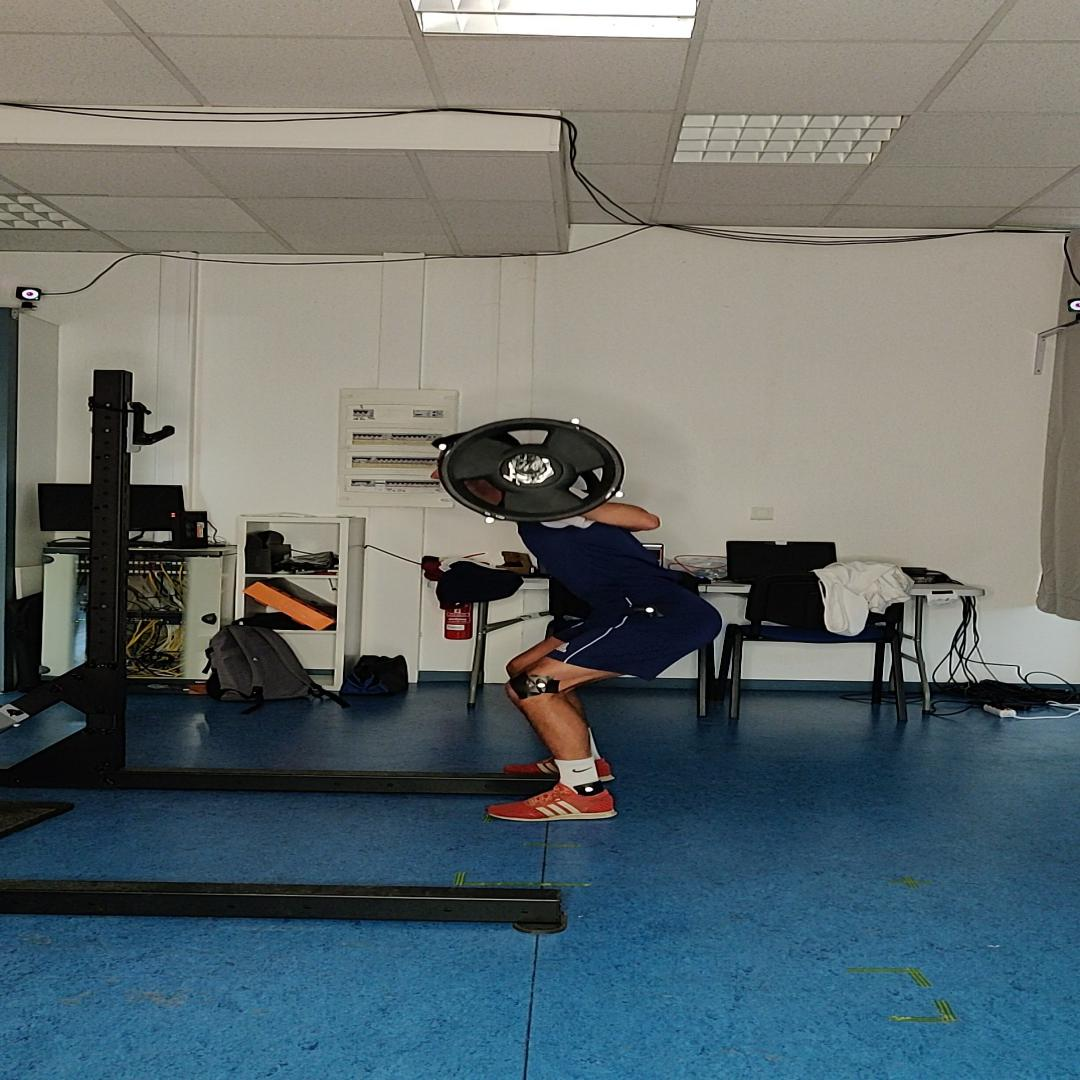Bar: (512, 453, 543, 474)
Barbell: (438, 418, 625, 522)
